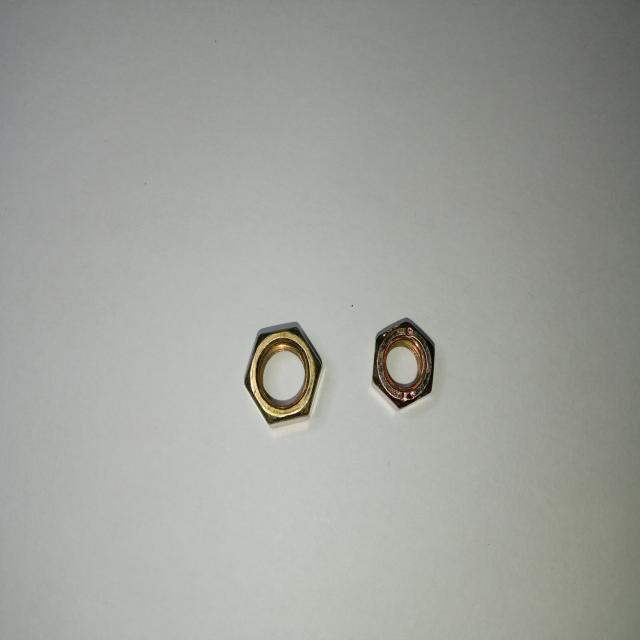m10: (240, 318, 328, 429)
m8: (370, 317, 438, 412)
